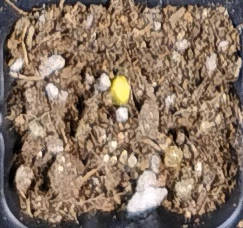pepper seed: (42, 22, 174, 128)
